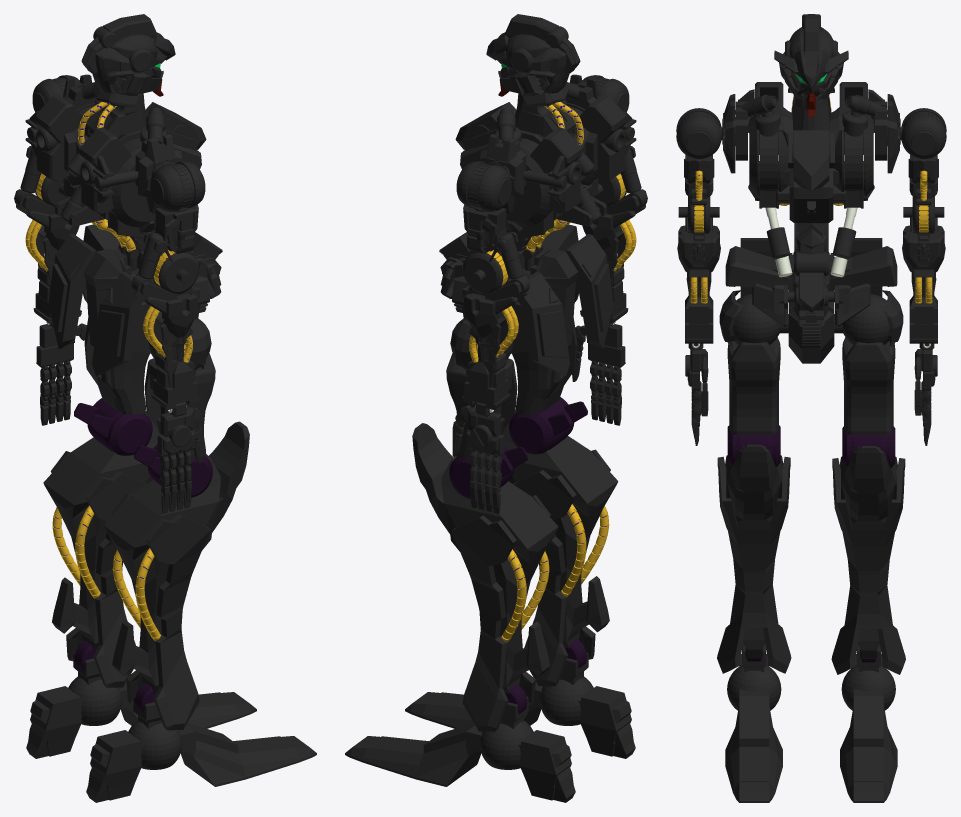
The picture shows the model from 3 angles, left to right: view 1: azimuth 30°, elevation 25°; view 2: azimuth 150°, elevation 25°; view 3: azimuth 270°, elevation 25°; orthographic projection. The views are drawn at different scales.
Parts seen in each view (by area): view 1: Rleg.2, Lleg.2, body.1, waist, Rleg.3, head, Rarm.2, Lleg.3, Larm.2, Lleg.1, Rleg.1, Rarmjoint.2 (+10 smaller); view 2: Lleg.2, Rleg.2, body.1, waist, Lleg.3, head, Larm.2, Rleg.3, Rarm.2, Rleg.1, Lleg.1, Larmjoint.2 (+10 smaller); view 3: body.1, Lleg.2, Rleg.2, waist, Lleg.1, Rleg.1, Rleg.3, Lleg.3, head, body.2, Larm.2, Rarm.2 (+13 smaller).
Boxes of the visible parts, x1,y1,x2,y2 form: Rleg.2: [103, 421, 249, 730]; Lleg.2: [43, 398, 159, 687]; body.1: [25, 74, 201, 238]; waist: [48, 224, 222, 375]; Rleg.3: [86, 723, 316, 802]; head: [81, 14, 175, 106]; Rarm.2: [131, 275, 199, 409]; Lleg.3: [26, 682, 256, 758]; Larm.2: [14, 189, 81, 323]; Lleg.1: [83, 289, 149, 414]; Rleg.1: [144, 318, 215, 458]; Rarmjoint.2: [138, 232, 199, 294]; Lleg.2: [412, 423, 558, 731]; Rleg.2: [502, 397, 618, 686]; body.1: [460, 74, 636, 238]; waist: [439, 224, 613, 375]; Lleg.3: [345, 723, 575, 802]; head: [486, 14, 580, 106]; Larm.2: [462, 275, 530, 409]; Rleg.3: [405, 681, 635, 758]; Rarm.2: [580, 189, 647, 323]; Rleg.1: [512, 289, 578, 414]; Lleg.1: [446, 318, 517, 458]; Larmjoint.2: [462, 232, 523, 294]; body.1: [719, 82, 903, 223]; Lleg.2: [831, 426, 905, 674]; Rleg.2: [717, 425, 791, 673]; waist: [725, 238, 897, 363]; Lleg.1: [842, 290, 903, 434]; Rleg.1: [719, 290, 780, 434]; Rleg.3: [725, 654, 782, 802]; Lleg.3: [840, 654, 897, 802]; head: [774, 14, 848, 118]; body.2: [765, 207, 857, 277]; Larm.2: [902, 217, 945, 343]; Rarm.2: [677, 217, 720, 343].
Bounding box in the file's own units: 6.52 × 5.81 × 18.95.
